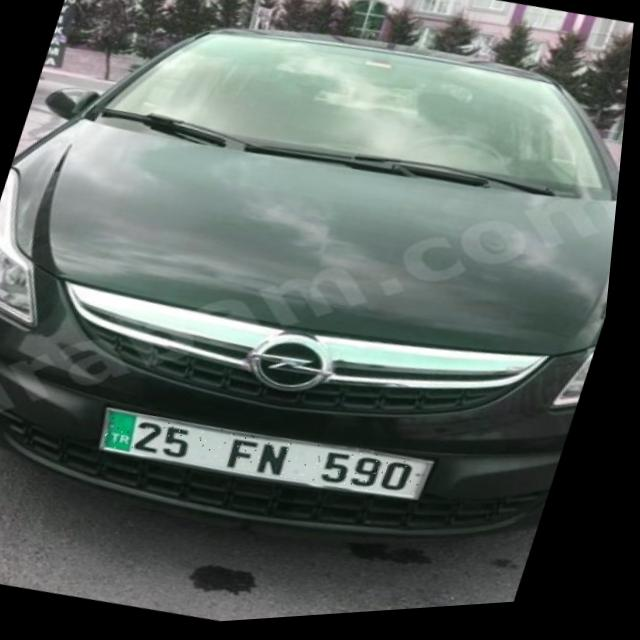license_plate: (103, 393, 447, 524)
